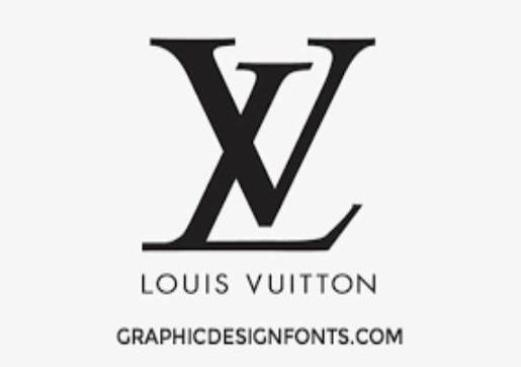LOUIS-VUITTON: (126, 25, 385, 263), (126, 268, 387, 308)
